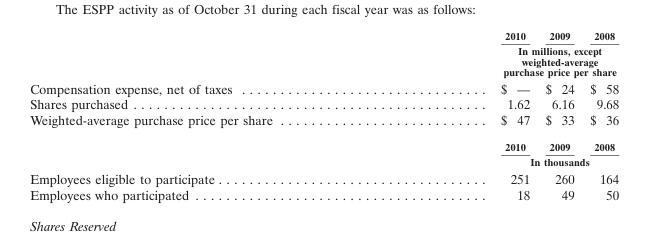table: (29, 28, 618, 202)
table column: (29, 28, 386, 202), (386, 28, 536, 202), (536, 28, 581, 202), (581, 28, 618, 202)
table column header: (29, 28, 618, 78)
table row: (29, 42, 618, 78), (29, 111, 618, 133), (29, 133, 618, 153), (29, 78, 618, 96), (29, 169, 618, 186), (29, 153, 618, 169), (29, 186, 618, 202), (29, 96, 618, 111), (29, 28, 618, 42)
table spanning cell: (386, 42, 618, 78), (386, 153, 618, 169)
